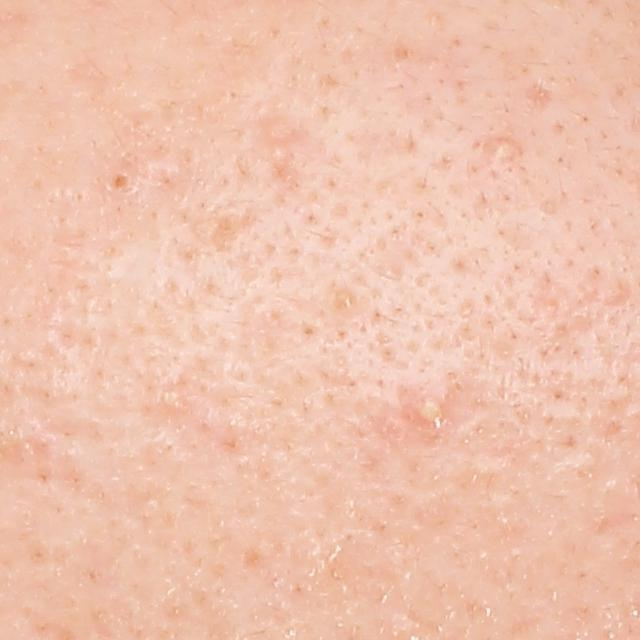atrophic_scar: (523, 79, 558, 108)
comedo: (485, 128, 525, 162), (106, 167, 139, 199), (157, 384, 190, 415), (338, 287, 360, 313)
pustule: (409, 392, 447, 428)
